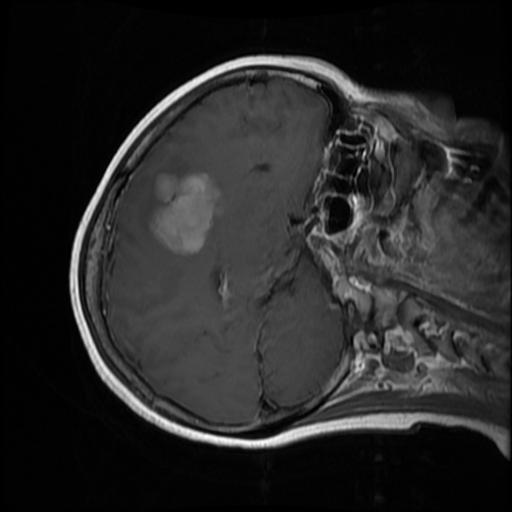meningioma: (146, 170, 223, 257)
